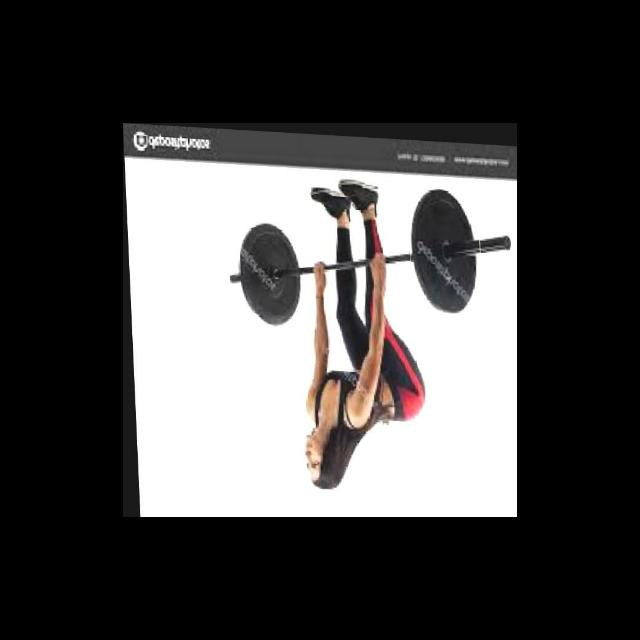barbell: (407, 180, 483, 321)
